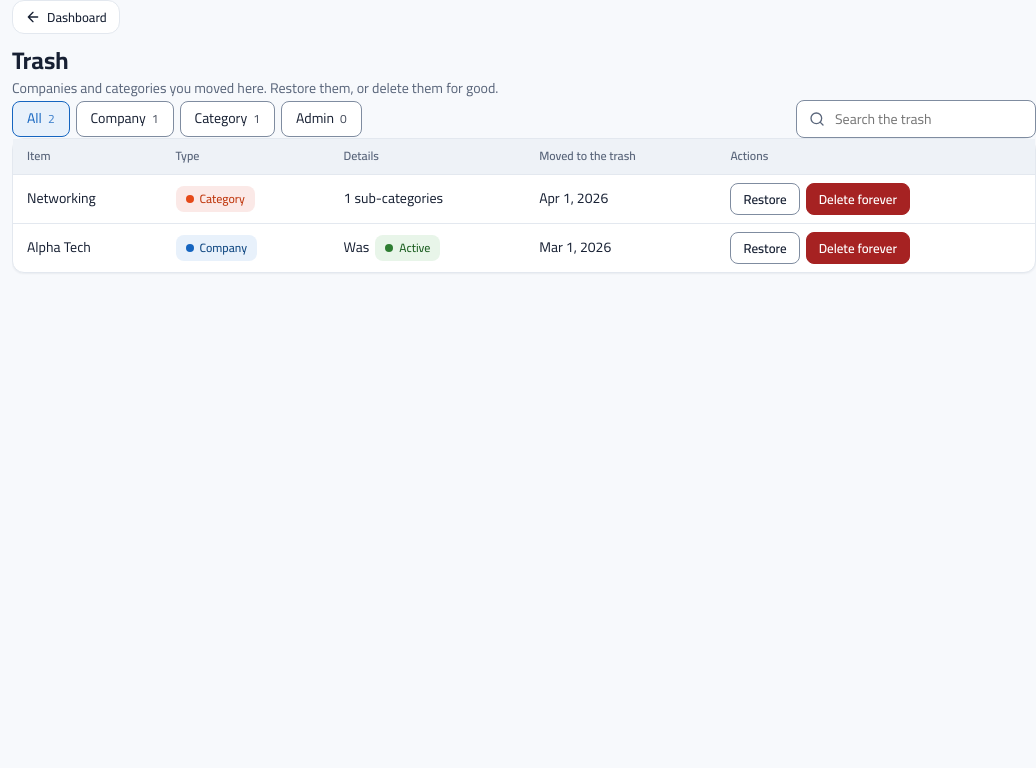
restoring › brings a company back with what it was
Click the button "Restore" in the row of "Alpha Tech" at point(765, 248), box [730,232,800,264]
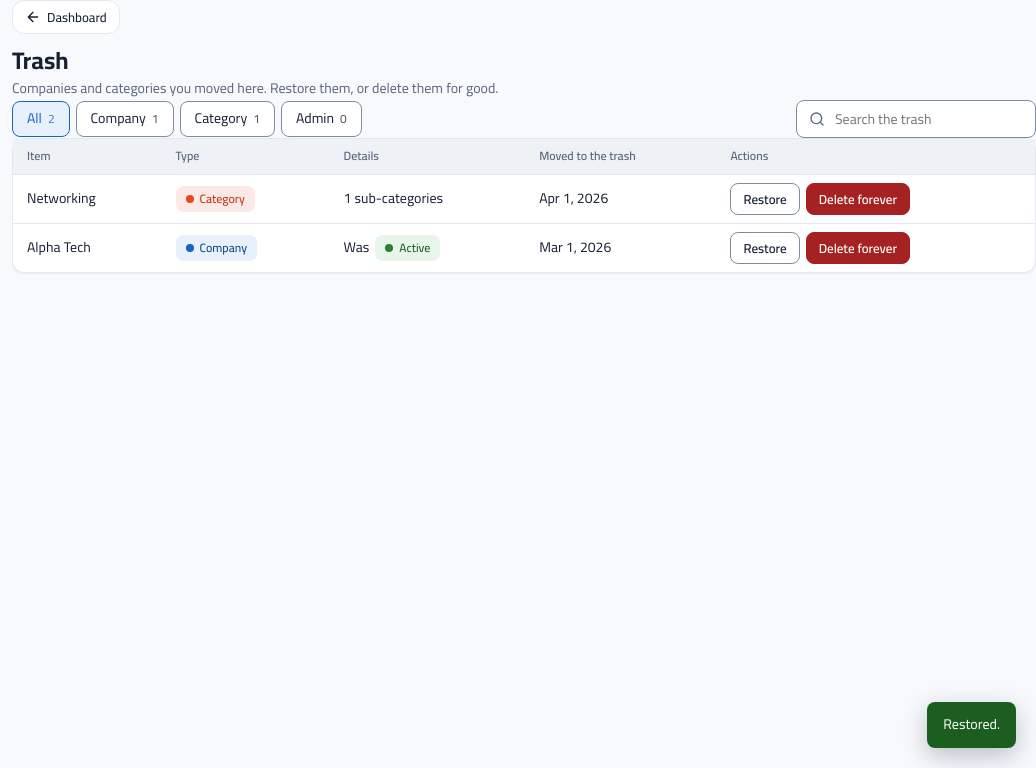
Now the text "Restored." is shown, box [927,702,1016,748]
